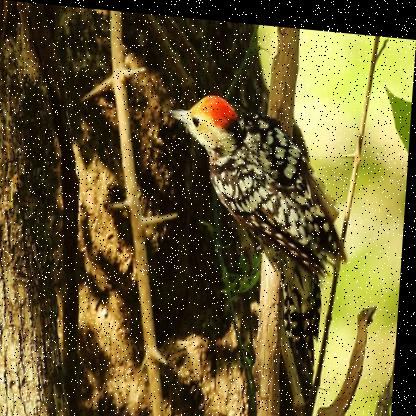Burung: (154, 86, 357, 378)
